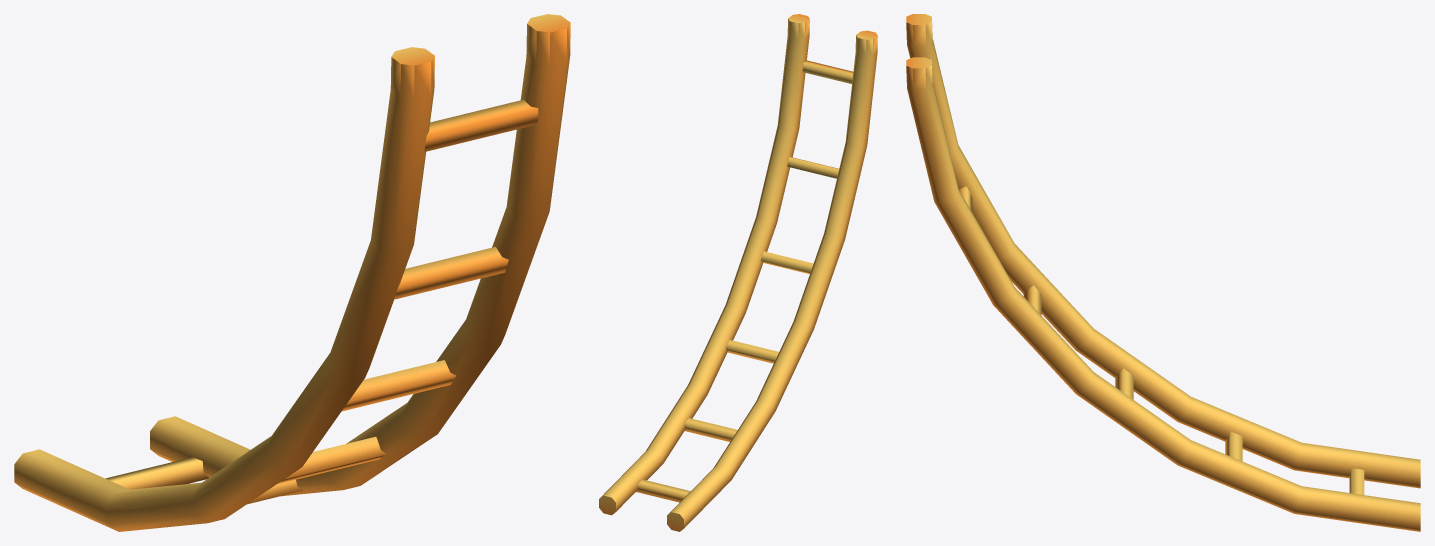
The model's file is coaster-mouse-straight-bend.glb.
3 views of the same model, side by side, from view 1: azimuth 30°, elevation 25°; view 2: azimuth 150°, elevation 25°; view 3: azimuth 270°, elevation 25° (orthographic). The views are drawn at different scales.
Visible parts, largest first — view 1: coaster-mouse-straight-bend; view 2: coaster-mouse-straight-bend; view 3: coaster-mouse-straight-bend.
Part boxes in pixels (<box>): coaster-mouse-straight-bend: <box>14,14,570,531</box>; coaster-mouse-straight-bend: <box>599,14,877,531</box>; coaster-mouse-straight-bend: <box>906,14,1420,531</box>.
Size of the model in its own units: 1.5 by 6 by 6.
1 material, 1 textured.
